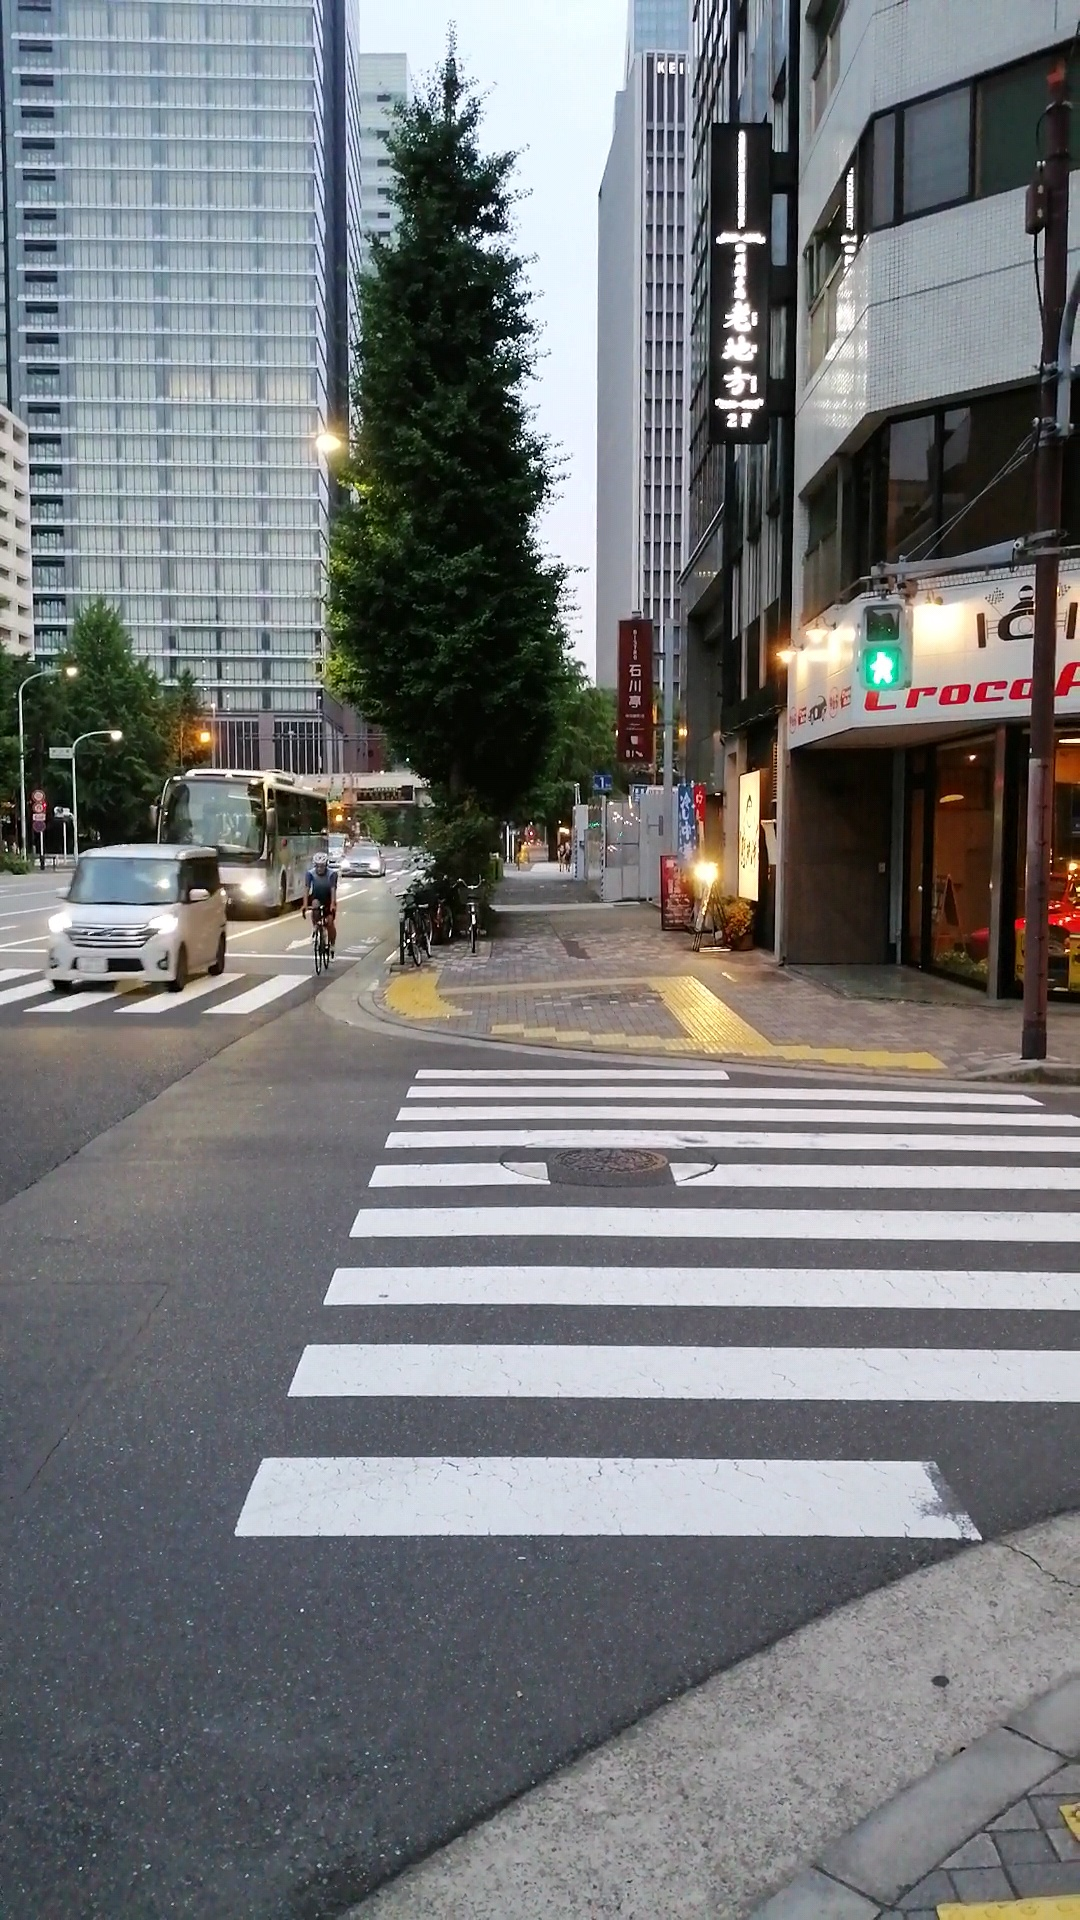green: (856, 597, 911, 692)
